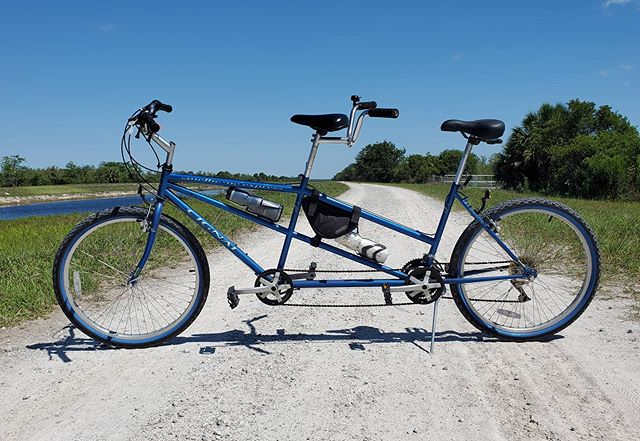bicicle: (56, 108, 597, 348)
road: (36, 191, 627, 441)
sky: (1, 1, 523, 125)
tree: (504, 98, 640, 201), (348, 141, 412, 187)
